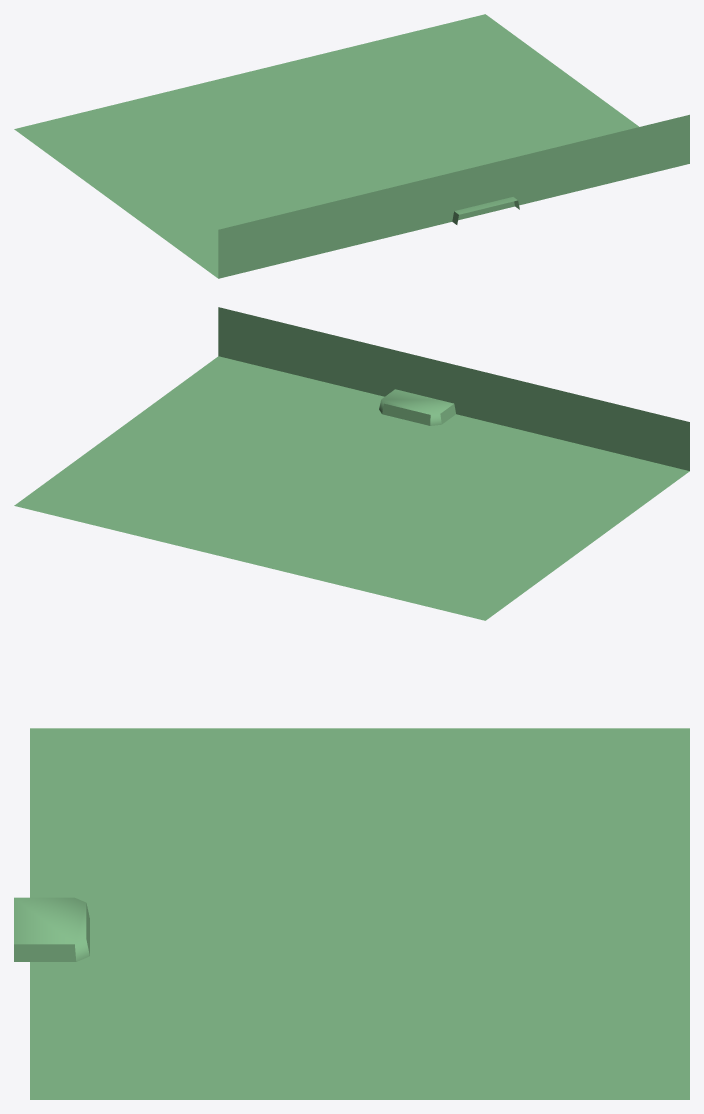
File: Room_Wall_16_A_COL.fbx
3 renders of one model, top to bottom at view 1: azimuth 30°, elevation 25°; view 2: azimuth 150°, elevation 25°; view 3: azimuth 270°, elevation 25°, orthographic. The views are drawn at different scales.
Visible parts, largest first — view 1: Room_Wall_16_A_COL; view 2: Room_Wall_16_A_COL; view 3: Room_Wall_16_A_COL.
Part boxes in pixels (x1=…): Room_Wall_16_A_COL: x1=14, y1=14, x2=689, y2=278; Room_Wall_16_A_COL: x1=14, y1=307, x2=689, y2=620; Room_Wall_16_A_COL: x1=14, y1=728, x2=689, y2=1099.
Size of the model in its own units: 1600 by 159 by 1230.
